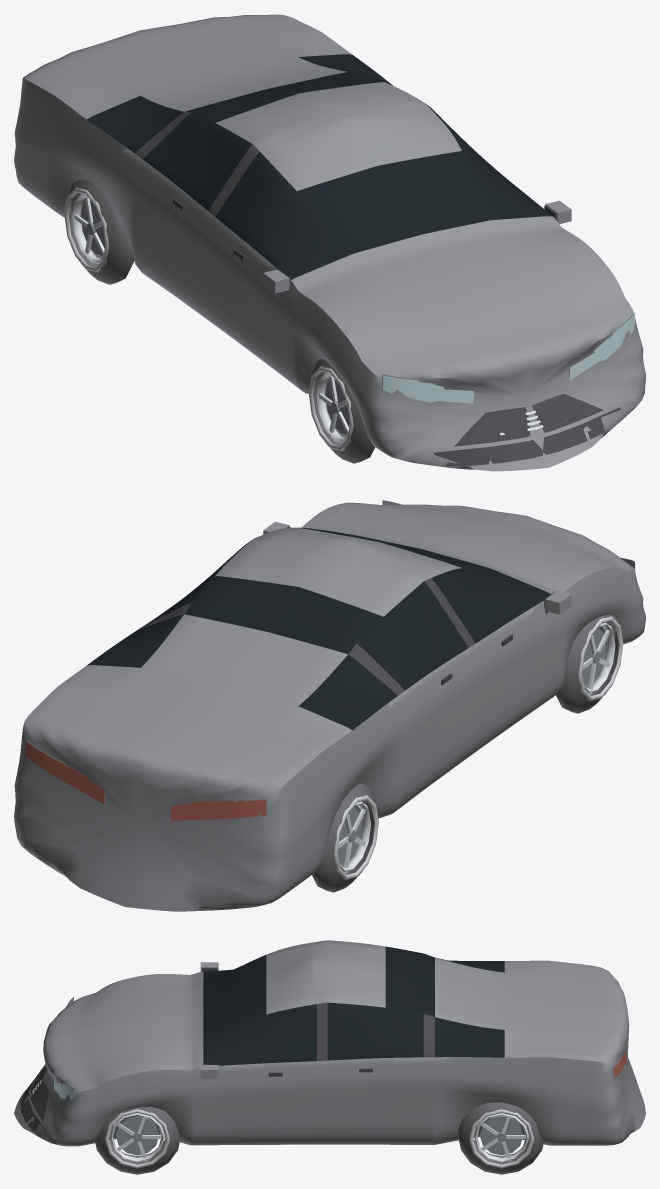
Rendered from Sedan_Mid_A_25_Grey.fbx.
The picture shows the model from 3 angles, top to bottom: view 1: azimuth 30°, elevation 25°; view 2: azimuth 150°, elevation 25°; view 3: azimuth 270°, elevation 25°; orthographic projection. The views are drawn at different scales.
Parts seen in each view (by area): view 1: LOD0; view 2: LOD0; view 3: LOD0.
Boxes of the visible parts, x1=… form: LOD0: x1=14, y1=14, x2=645, y2=471; LOD0: x1=14, y1=500, x2=645, y2=911; LOD0: x1=14, y1=940, x2=645, y2=1174.
Size of what is drawn, in the model's own units: 198 by 143 by 489.
